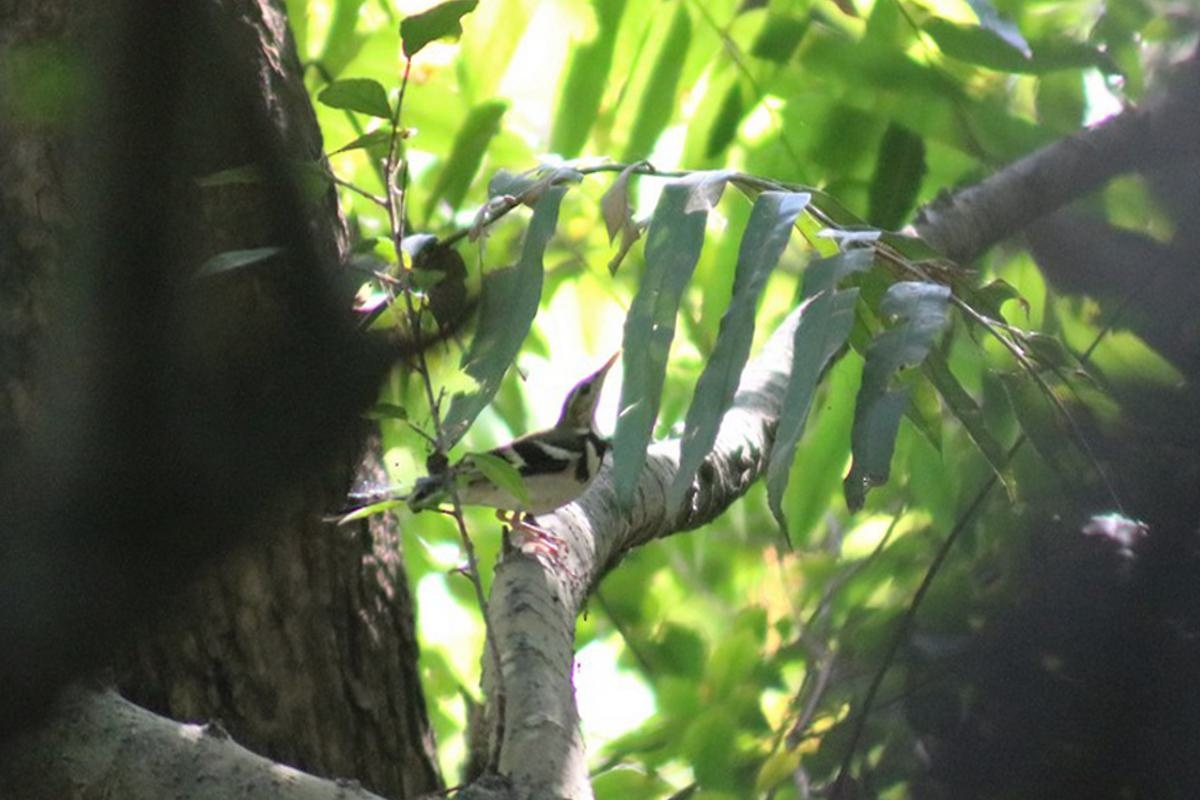wagtail: (321, 348, 641, 550)
